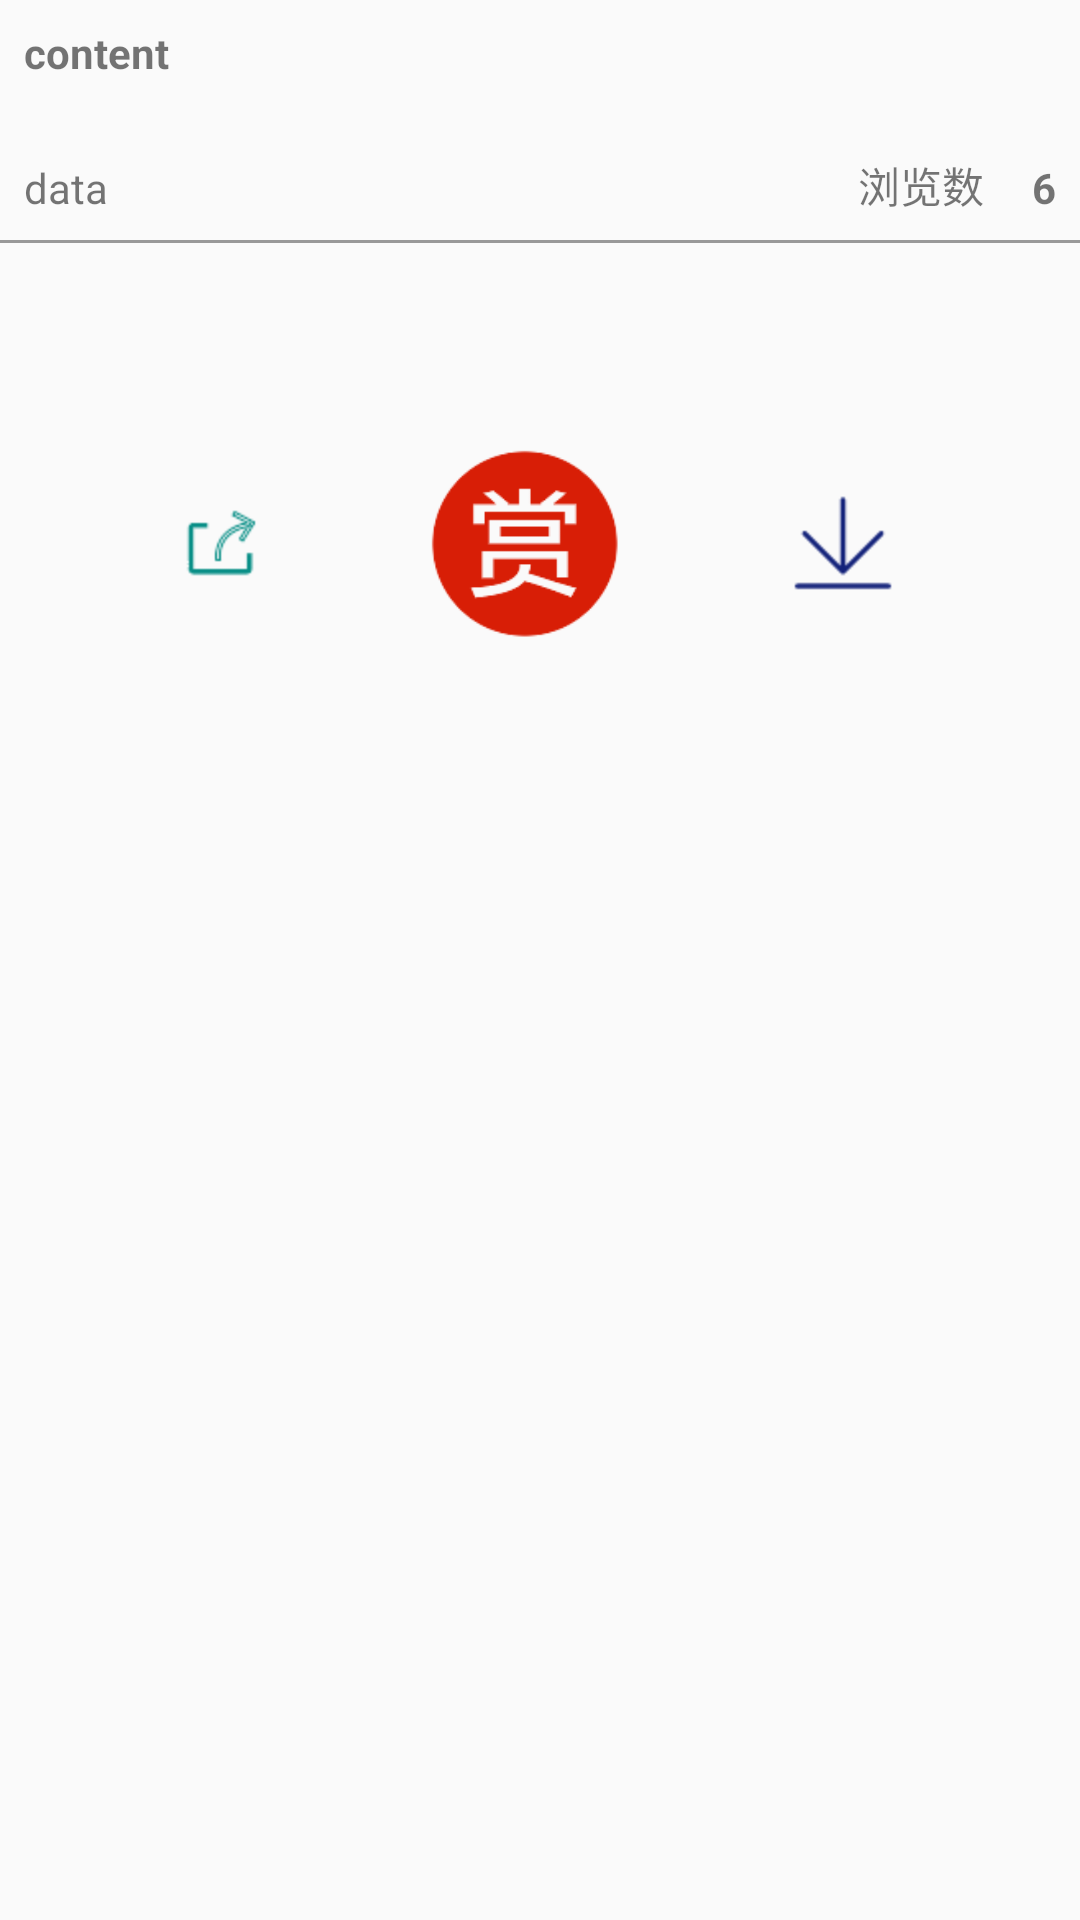

Where icons sit on this 1080w x 1920h app screen, as {"left": x1, "top": y1, "right": x2, "bottom": y2}:
download: {"left": 794, "top": 496, "right": 892, "bottom": 590}
share: {"left": 187, "top": 510, "right": 256, "bottom": 576}
